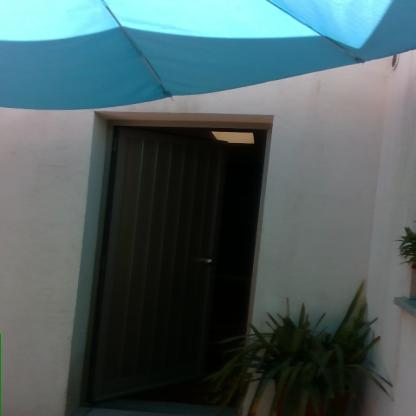semi: (84, 97, 280, 406)
